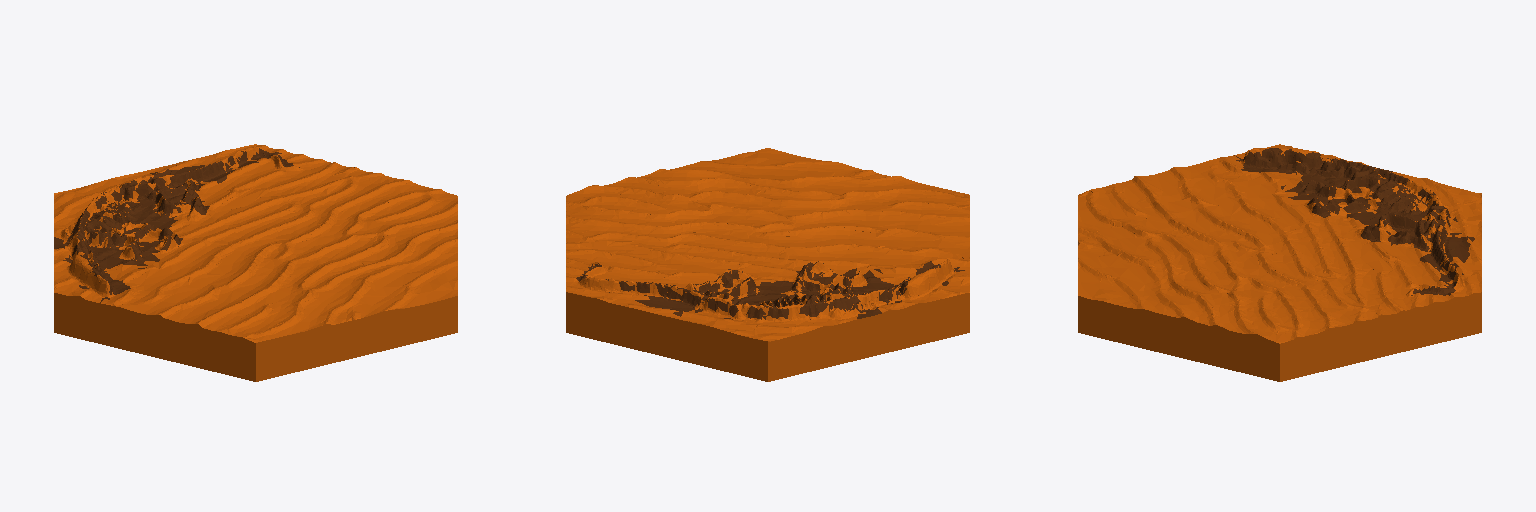
File: desert.obj
3 views of the same model, side by side, from view 1: azimuth 30°, elevation 25°; view 2: azimuth 150°, elevation 25°; view 3: azimuth 270°, elevation 25° (orthographic).
Visible parts, largest first — view 1: desert_v1; view 2: desert_v1; view 3: desert_v1.
Part boxes in pixels (x1,y1,x2,y2): desert_v1: (54, 144, 457, 381); desert_v1: (566, 148, 969, 381); desert_v1: (1078, 144, 1481, 381).
Size of the model in its own units: 73.32 by 9.5 by 63.5.